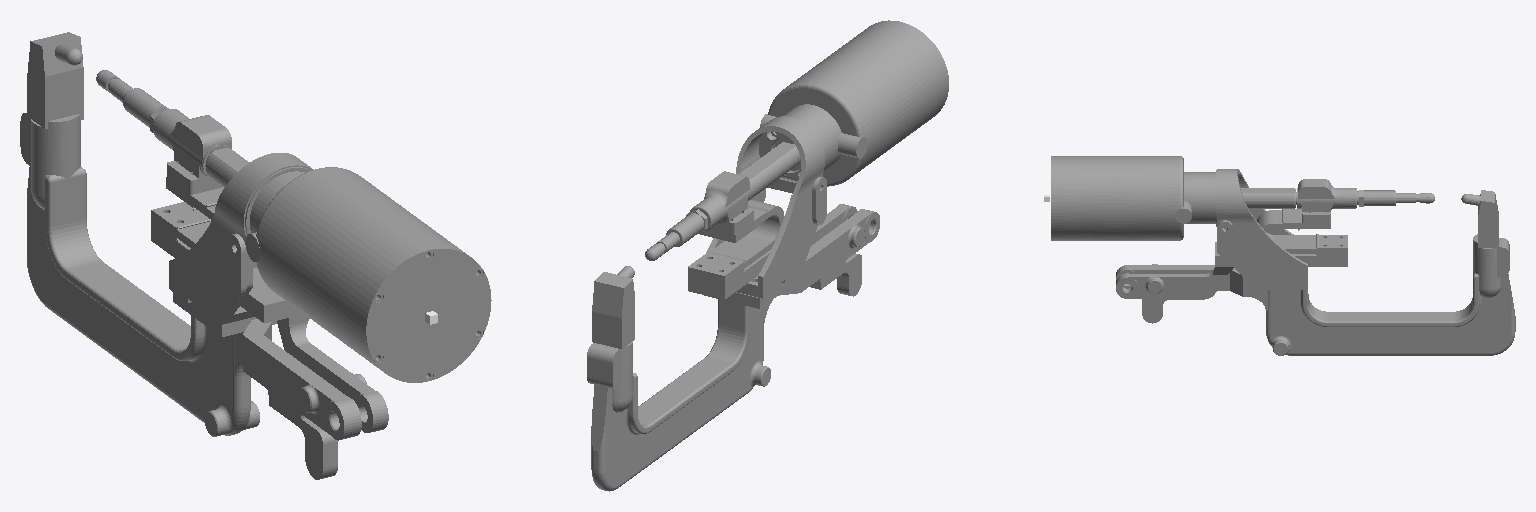
robot.urdf — robot:
<robot name="">
	<link name="world">
		<inertial>
			<origin rpy="0.00000 -0.00000 0.00000" xyz="0.00000 0.00000 0.00000" />
			<mass value="0.00000" />
			<inertia ixx="0.00000" ixy="0" ixz="0" iyy="0.00000" iyz="0" izz="0.00000" />
		</inertial>
	</link>
	<link name="base_link">
		<inertial>
			<origin rpy="0.00000 -0.00000 0.00000" xyz="0.00000 0.00000 0.00000" />
			<mass value="4.00000" />
			<inertia ixx="0.01063" ixy="0" ixz="0" iyy="0.00875" iyz="0" izz="0.01809" />
		</inertial>
		<visual>
			<origin rpy="0.00000 -0.00000 0.00000" xyz="0.00000 0.00000 0.00000" />
			<geometry>
				<mesh filename="rlbotics/envs/models/robots/universal_robots/ur10/meshes/ur10/visual/base.dae" scale="1.00000 1.00000 1.00000" />
			</geometry>
			<material name="0">
				<color rgba="0.70000 0.70000 0.70000 1.00000" />
			</material>
		</visual>
		<collision>
			<origin rpy="0.00000 -0.00000 0.00000" xyz="0.00000 0.00000 0.00000" />
			<geometry>
				<mesh filename="rlbotics/envs/models/robots/universal_robots/ur10/meshes/ur10/collision/base.stl" scale="1.00000 1.00000 1.00000" />
			</geometry>
		</collision>
	</link>
	<link name="shoulder_link">
		<inertial>
			<origin rpy="0.00000 -0.00000 0.00000" xyz="0.00000 0.00000 0.00000" />
			<mass value="7.77800" />
			<inertia ixx="0.03989" ixy="0" ixz="0" iyy="0.03770" iyz="0" izz="0.03412" />
		</inertial>
		<visual>
			<origin rpy="0.00000 -0.00000 0.00000" xyz="0.00000 0.00000 0.00000" />
			<geometry>
				<mesh filename="rlbotics/envs/models/robots/universal_robots/ur10/meshes/ur10/visual/shoulder.dae" scale="1.00000 1.00000 1.00000" />
			</geometry>
			<material name="1">
				<color rgba="0.70000 0.70000 0.70000 1.00000" />
			</material>
		</visual>
		<collision>
			<origin rpy="0.00000 -0.00000 0.00000" xyz="0.00000 0.00000 0.00000" />
			<geometry>
				<mesh filename="rlbotics/envs/models/robots/universal_robots/ur10/meshes/ur10/collision/shoulder.stl" scale="1.00000 1.00000 1.00000" />
			</geometry>
		</collision>
	</link>
	<link name="upper_arm_link">
		<inertial>
			<origin rpy="0.00000 -0.00000 0.00000" xyz="0.00000 -0.04500 0.30600" />
			<mass value="12.93000" />
			<inertia ixx="0.65013" ixy="0" ixz="0" iyy="0.64040" iyz="0" izz="0.06264" />
		</inertial>
		<visual>
			<origin rpy="0.00000 -0.00000 0.00000" xyz="0.00000 0.00000 0.00000" />
			<geometry>
				<mesh filename="rlbotics/envs/models/robots/universal_robots/ur10/meshes/ur10/visual/upperarm.dae" scale="1.00000 1.00000 1.00000" />
			</geometry>
			<material name="2">
				<color rgba="0.70000 0.70000 0.70000 1.00000" />
			</material>
		</visual>
		<collision>
			<origin rpy="0.00000 -0.00000 0.00000" xyz="0.00000 0.00000 0.00000" />
			<geometry>
				<mesh filename="rlbotics/envs/models/robots/universal_robots/ur10/meshes/ur10/collision/upperarm.stl" scale="1.00000 1.00000 1.00000" />
			</geometry>
		</collision>
	</link>
	<link name="forearm_link">
		<inertial>
			<origin rpy="0.00000 -0.00000 0.00000" xyz="0.00000 0.00000 0.28615" />
			<mass value="3.87000" />
			<inertia ixx="0.15749" ixy="0" ixz="0" iyy="0.15609" iyz="0" izz="0.01167" />
		</inertial>
		<visual>
			<origin rpy="0.00000 -0.00000 0.00000" xyz="0.00000 0.00000 0.00000" />
			<geometry>
				<mesh filename="rlbotics/envs/models/robots/universal_robots/ur10/meshes/ur10/visual/forearm.dae" scale="1.00000 1.00000 1.00000" />
			</geometry>
			<material name="3">
				<color rgba="0.70000 0.70000 0.70000 1.00000" />
			</material>
		</visual>
		<collision>
			<origin rpy="0.00000 -0.00000 0.00000" xyz="0.00000 0.00000 0.00000" />
			<geometry>
				<mesh filename="rlbotics/envs/models/robots/universal_robots/ur10/meshes/ur10/collision/forearm.stl" scale="1.00000 1.00000 1.00000" />
			</geometry>
		</collision>
	</link>
	<link name="wrist_1_link">
		<inertial>
			<origin rpy="0.00000 -0.00000 0.00000" xyz="0.00000 0.11490 0.00000" />
			<mass value="1.96000" />
			<inertia ixx="0.00438" ixy="0" ixz="0" iyy="0.00408" iyz="0" izz="0.00338" />
		</inertial>
		<visual>
			<origin rpy="0.00000 -0.00000 0.00000" xyz="0.00000 0.00000 0.00000" />
			<geometry>
				<mesh filename="rlbotics/envs/models/robots/universal_robots/ur10/meshes/ur10/visual/wrist1.dae" scale="1.00000 1.00000 1.00000" />
			</geometry>
			<material name="4">
				<color rgba="0.70000 0.70000 0.70000 1.00000" />
			</material>
		</visual>
		<collision>
			<origin rpy="0.00000 -0.00000 0.00000" xyz="0.00000 0.00000 0.00000" />
			<geometry>
				<mesh filename="rlbotics/envs/models/robots/universal_robots/ur10/meshes/ur10/collision/wrist1.stl" scale="1.00000 1.00000 1.00000" />
			</geometry>
		</collision>
	</link>
	<link name="wrist_2_link">
		<inertial>
			<origin rpy="0.00000 -0.00000 0.00000" xyz="0.00000 0.00000 0.11570" />
			<mass value="1.96000" />
			<inertia ixx="0.00438" ixy="0" ixz="0" iyy="0.00338" iyz="0" izz="0.00409" />
		</inertial>
		<visual>
			<origin rpy="0.00000 -0.00000 0.00000" xyz="0.00000 0.00000 0.00000" />
			<geometry>
				<mesh filename="rlbotics/envs/models/robots/universal_robots/ur10/meshes/ur10/visual/wrist2.dae" scale="1.00000 1.00000 1.00000" />
			</geometry>
			<material name="5">
				<color rgba="0.70000 0.70000 0.70000 1.00000" />
			</material>
		</visual>
		<collision>
			<origin rpy="0.00000 -0.00000 0.00000" xyz="0.00000 0.00000 0.00000" />
			<geometry>
				<mesh filename="rlbotics/envs/models/robots/universal_robots/ur10/meshes/ur10/collision/wrist2.stl" scale="1.00000 1.00000 1.00000" />
			</geometry>
		</collision>
	</link>
	<link name="wrist_3_link">
		<inertial>
			<origin rpy="1.57080 -0.00000 0.00000" xyz="0.00000 0.07695 0.00000" />
			<mass value="0.20200" />
			<inertia ixx="0.00018" ixy="0" ixz="0" iyy="0.00018" iyz="0" izz="0.00031" />
		</inertial>
		<visual>
			<origin rpy="0.00000 -0.00000 0.00000" xyz="0.00000 0.00000 0.00000" />
			<geometry>
				<mesh filename="rlbotics/envs/models/robots/universal_robots/ur10/meshes/ur10/visual/wrist3.dae" scale="1.00000 1.00000 1.00000" />
			</geometry>
			<material name="6">
				<color rgba="0.70000 0.70000 0.70000 1.00000" />
			</material>
		</visual>
		<collision>
			<origin rpy="0.00000 -0.00000 0.00000" xyz="0.00000 0.00000 -0.00000" />
			<geometry>
				<mesh filename="rlbotics/envs/models/robots/universal_robots/ur10/meshes/ur10/collision/wrist3.stl" scale="1.00000 1.00000 1.00000" />
			</geometry>
		</collision>
	</link>
	<link name="ee_link">
		<inertial>
			<origin rpy="0.00000 -0.00000 0.00000" xyz="0.00000 0.00000 0.00000" />
			<mass value="1.00000" />
			<inertia ixx="0.00002" ixy="0" ixz="0" iyy="0.00002" iyz="0" izz="0.00002" />
		</inertial>
		<visual>
			<origin rpy="0.00000 -0.00000 0.00000" xyz="-0.01000 0.00000 0.00000" />
			<geometry>
				<box size="0.01000 0.01000 0.01000" />
			</geometry>
			<material name="7">
				<color rgba="1.00000 1.00000 1.00000 1.00000" />
			</material>
		</visual>
		<collision>
			<origin rpy="0.00000 -0.00000 0.00000" xyz="-0.01000 0.00000 0.00000" />
			<geometry>
				<box size="0.01000 0.01000 0.01000" />
			</geometry>
		</collision>
	</link>
	<link name="tool0">
		<inertial>
			<origin rpy="0.00000 -0.00000 0.00000" xyz="0.00000 0.00000 0.00000" />
			<mass value="1.00000" />
			<inertia ixx="0.00000" ixy="0" ixz="0" iyy="0.00000" iyz="0" izz="0.00000" />
		</inertial>
	</link>
	<link name="base">
		<inertial>
			<origin rpy="0.00000 -0.00000 0.00000" xyz="0.00000 0.00000 0.00000" />
			<mass value="1.00000" />
			<inertia ixx="0.00000" ixy="0" ixz="0" iyy="0.00000" iyz="0" izz="0.00000" />
		</inertial>
	</link>
	<link name="root">
		<inertial>
			<origin rpy="0.00000 -0.00000 0.00000" xyz="0.50570 -0.00054 0.18351" />
			<mass value="2.00000" />
			<inertia ixx="0.02909" ixy="0" ixz="0" iyy="0.13991" iyz="0" izz="0.11897" />
		</inertial>
		<visual>
			<origin rpy="0.00000 -0.00000 0.00000" xyz="0.39949 0.00000 0.14487" />
			<geometry>
				<mesh filename="rlbotics/envs/models/end_effectors/welding/spot_welding_gun/meshes/stl/RFC-22-G01 v2.stl" scale="0.00116 0.00116 0.00116" />
			</geometry>
			<material name="8">
				<color rgba="0.67059 0.67059 0.67059 1.00000" />
			</material>
		</visual>
		<collision>
			<origin rpy="0.00000 -0.00000 0.00000" xyz="0.39946 -0.00043 0.14496" />
			<geometry>
				<mesh filename="rlbotics/envs/models/end_effectors/welding/spot_welding_gun/meshes/stl/RFC-22-G01 v2.001.stl" scale="0.78991 0.78991 0.78991" />
			</geometry>
		</collision>
	</link>
	<link name="ee_joint_arm">
		<inertial>
			<origin rpy="0.00000 -0.00000 0.00000" xyz="0.00000 0.00000 0.00000" />
			<mass value="0.00100" />
			<inertia ixx="0.00000" ixy="0" ixz="0" iyy="0.00000" iyz="0" izz="0.00000" />
		</inertial>
	</link>
	<link name="nozzle_tip">
		<inertial>
			<origin rpy="0.00000 -0.00000 0.00000" xyz="0.00000 0.00000 0.00000" />
			<mass value="0.00100" />
			<inertia ixx="0.00000" ixy="0" ixz="0" iyy="0.00000" iyz="0" izz="0.00000" />
		</inertial>
	</link>
	<joint name="world_joint" type="fixed">
		<parent link="world" />
		<child link="base_link" />
		<dynamics damping="1.0" friction="0.0001" />
		<origin rpy="0.00000 -0.00000 0.00000" xyz="0.00000 0.00000 0.00000" />
		<axis xyz="0.00000 0.00000 0.00000" />
	</joint>
	<joint name="shoulder_pan_joint" type="revolute">
		<parent link="base_link" />
		<child link="shoulder_link" />
		<dynamics damping="0.0" friction="0.0" />
		<origin rpy="0.00000 -0.00000 0.00000" xyz="0.00000 0.00000 0.12730" />
		<axis xyz="0.00000 0.00000 1.00000" />
	<limit effort="330.0" lower="-6.283185307179586" upper="6.283185307179586" velocity="2.16" /></joint>
	<joint name="shoulder_lift_joint" type="revolute">
		<parent link="shoulder_link" />
		<child link="upper_arm_link" />
		<dynamics damping="0.0" friction="0.0" />
		<origin rpy="0.00000 1.57080 -0.00000" xyz="0.00000 0.22094 0.00000" />
		<axis xyz="0.00000 1.00000 0.00000" />
	<limit effort="330.0" lower="-6.283185307179586" upper="6.283185307179586" velocity="2.16" /></joint>
	<joint name="elbow_joint" type="revolute">
		<parent link="upper_arm_link" />
		<child link="forearm_link" />
		<dynamics damping="0.0" friction="0.0" />
		<origin rpy="0.00000 -0.00000 0.00000" xyz="0.00000 -0.17190 0.61200" />
		<axis xyz="0.00000 1.00000 0.00000" />
	<limit effort="150.0" lower="-3.141592653589793" upper="3.141592653589793" velocity="3.15" /></joint>
	<joint name="wrist_1_joint" type="revolute">
		<parent link="forearm_link" />
		<child link="wrist_1_link" />
		<dynamics damping="0.0" friction="0.0" />
		<origin rpy="0.00000 1.57080 -0.00000" xyz="0.00000 0.00000 0.57230" />
		<axis xyz="0.00000 1.00000 0.00000" />
	<limit effort="54.0" lower="-6.283185307179586" upper="6.283185307179586" velocity="3.2" /></joint>
	<joint name="wrist_2_joint" type="revolute">
		<parent link="wrist_1_link" />
		<child link="wrist_2_link" />
		<dynamics damping="0.0" friction="0.0" />
		<origin rpy="0.00000 -0.00000 0.00000" xyz="0.00000 0.11490 0.00000" />
		<axis xyz="0.00000 0.00000 1.00000" />
	<limit effort="54.0" lower="-6.283185307179586" upper="6.283185307179586" velocity="3.2" /></joint>
	<joint name="wrist_3_joint" type="revolute">
		<parent link="wrist_2_link" />
		<child link="wrist_3_link" />
		<dynamics damping="0.0" friction="0.0" />
		<origin rpy="0.00000 -0.00000 0.00000" xyz="0.00000 0.00000 0.11570" />
		<axis xyz="0.00000 0.00000 -1.00000" />
	<limit effort="54.0" lower="-6.283185307179586" upper="6.283185307179586" velocity="3.2" /></joint>
	<joint name="ee_fixed_joint" type="fixed">
		<parent link="wrist_3_link" />
		<child link="ee_link" />
		<dynamics damping="1.0" friction="0.0001" />
		<origin rpy="0.00000 -0.00000 1.57080" xyz="0.00000 0.09220 0.00000" />
		<axis xyz="0.00000 0.00000 0.00000" />
	</joint>
	<joint name="wrist_3_link-tool0_fixed_joint" type="fixed">
		<parent link="wrist_3_link" />
		<child link="tool0" />
		<dynamics damping="1.0" friction="0.0001" />
		<origin rpy="-1.57080 0.00000 0.00000" xyz="0.00000 0.09220 0.00000" />
		<axis xyz="0.00000 0.00000 0.00000" />
	</joint>
	<joint name="base_link-base_fixed_joint" type="fixed">
		<parent link="base_link" />
		<child link="base" />
		<dynamics damping="1.0" friction="0.0001" />
		<origin rpy="0.00000 -0.00000 -3.14159" xyz="0.00000 0.00000 0.00000" />
		<axis xyz="0.00000 0.00000 0.00000" />
	</joint>
	<joint name="joint_dummy1" type="fixed">
		<parent link="ee_link" />
		<child link="root" />
		<dynamics damping="1.0" friction="0.0001" />
		<origin rpy="0.00000 0.00000 0.00000" xyz="0.00000 0.00000 0.00000" />
		<axis xyz="0.00000 0.00000 1.00000" />
	</joint>
	<joint name="ee_joint_arm" type="fixed">
		<parent link="root" />
		<child link="ee_joint_arm" />
		<dynamics damping="1.0" friction="0.0001" />
		<origin rpy="0.00000 1.57080 -0.00000" xyz="-0.00372 -0.00266 0.00071" />
		<axis xyz="0.00000 0.00000 0.00000" />
	</joint>
	<joint name="nozzle_tip" type="fixed">
		<parent link="root" />
		<child link="nozzle_tip" />
		<dynamics damping="1.0" friction="0.0001" />
		<origin rpy="0.00000 1.57080 -0.00000" xyz="0.67936 0.00000 0.00043" />
		<axis xyz="0.00000 0.00000 0.00000" />
	</joint>
</robot>

--- Facts derived from the render (not from the file) ---
Views: 3 orthographic renders of the robot side by side, from view 1: azimuth 30°, elevation 25°; view 2: azimuth 150°, elevation 25°; view 3: azimuth 270°, elevation 25°.
Robot: robot — 14 links, 13 joints (6 revolute, 7 fixed); root link world; default pose: all joints at 0.
Visible links, largest first — view 1: root; view 2: root; view 3: root.
Link boxes in pixels (x1,y1,x2,y2): root: [20, 32, 491, 479]; root: [587, 20, 948, 491]; root: [1051, 156, 1515, 355].
Size in the robot's own frame: 0.1508 by 0.8379 by 0.3828 metres.
1 mesh visuals loaded from 8 distinct referenced files (1 binary STL); not drawn: 7 (reference not matched to a file when rendering).